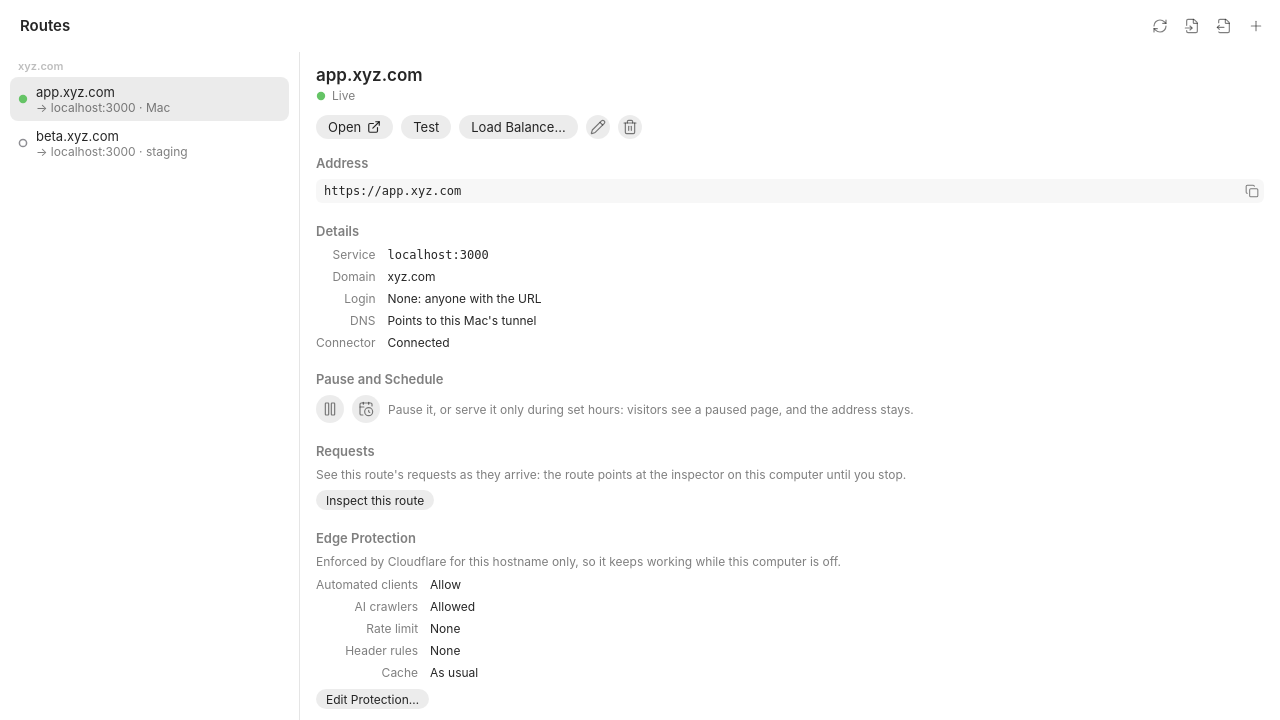
Scenario: RoutesPage › puts a new route on the tunnel chosen, and says which tunnel carries each
Expected: the text "→ localhost:3000 · staging" is shown, [36,144,188,158]
Expected: the picture named "Connector stopped" is shown, [18,138,28,148]
Click the button named "New route" at (1256, 26), box [1244,14,1268,38]
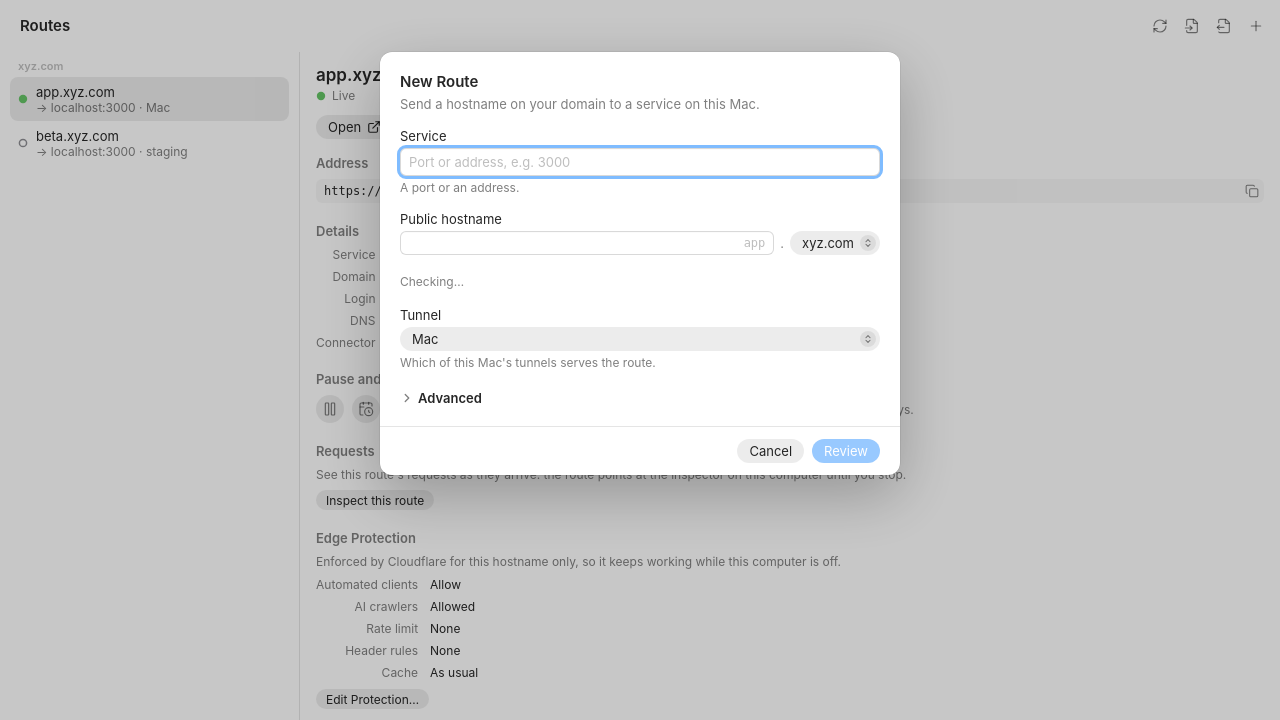
Type "5000" into the dropdown labelled "Port or address" at (640, 162), box [400,148,880,176]
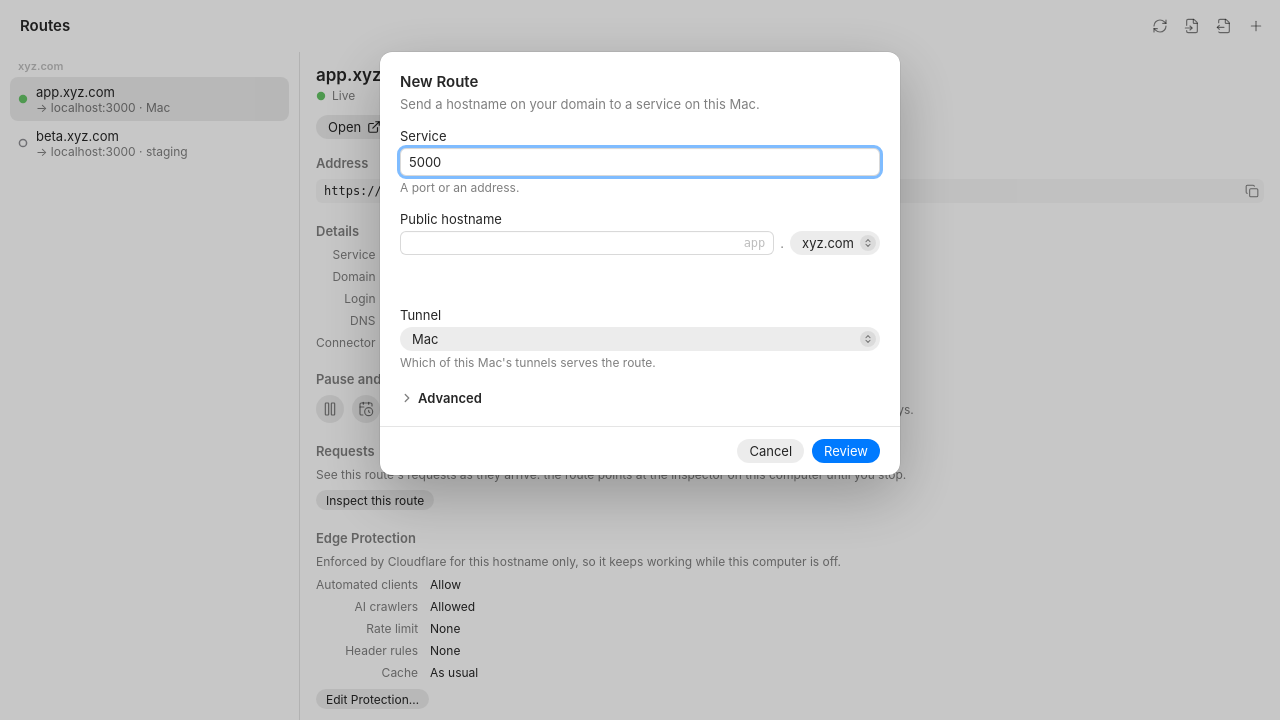
Expected: the dropdown named "Tunnel" reads "Mac"
Click the dropdown named "Tunnel" at (425, 339), box [400,327,880,351]
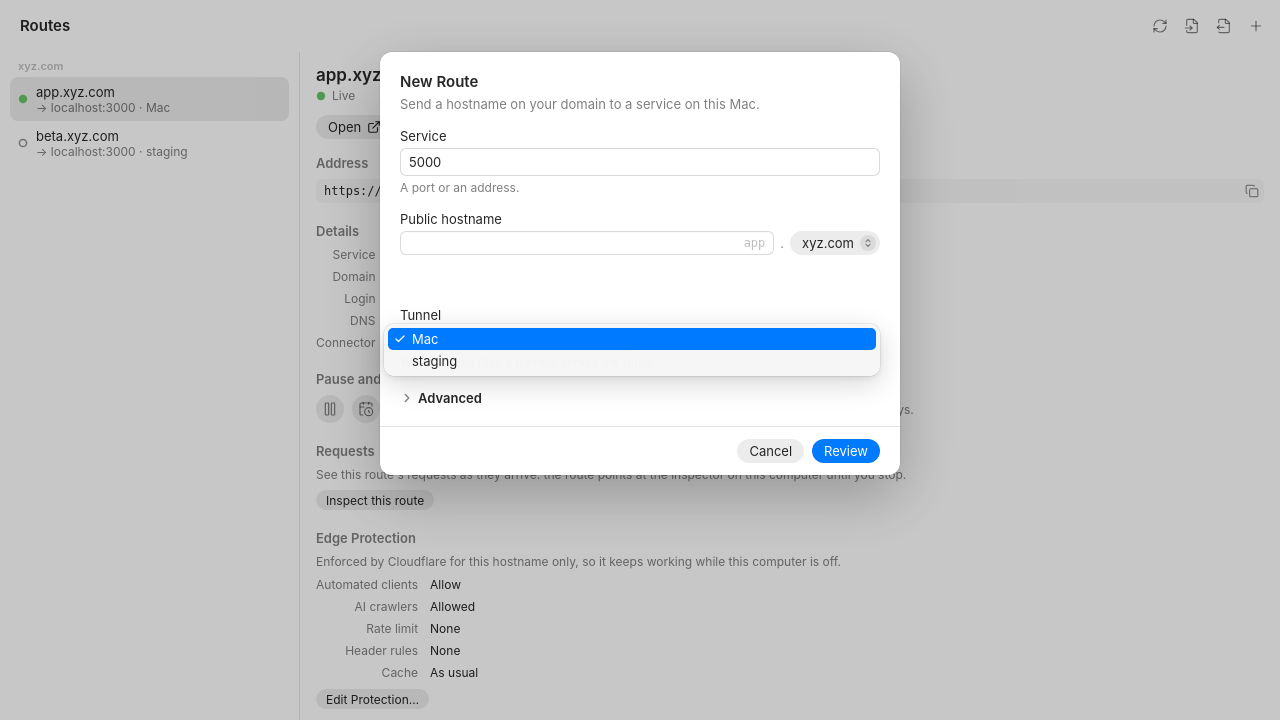
Click the option "staging" at (435, 361), box [412,353,457,369]
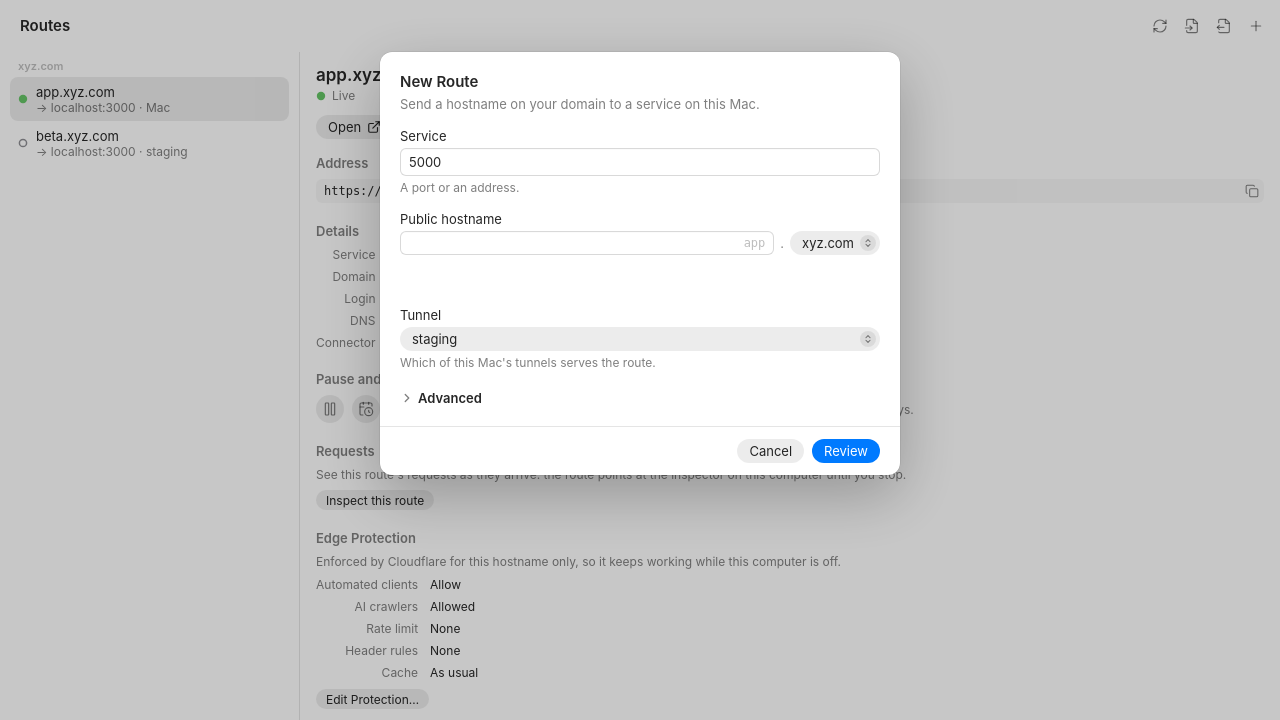
Click the button "Review" at (846, 451), box [812,439,880,463]
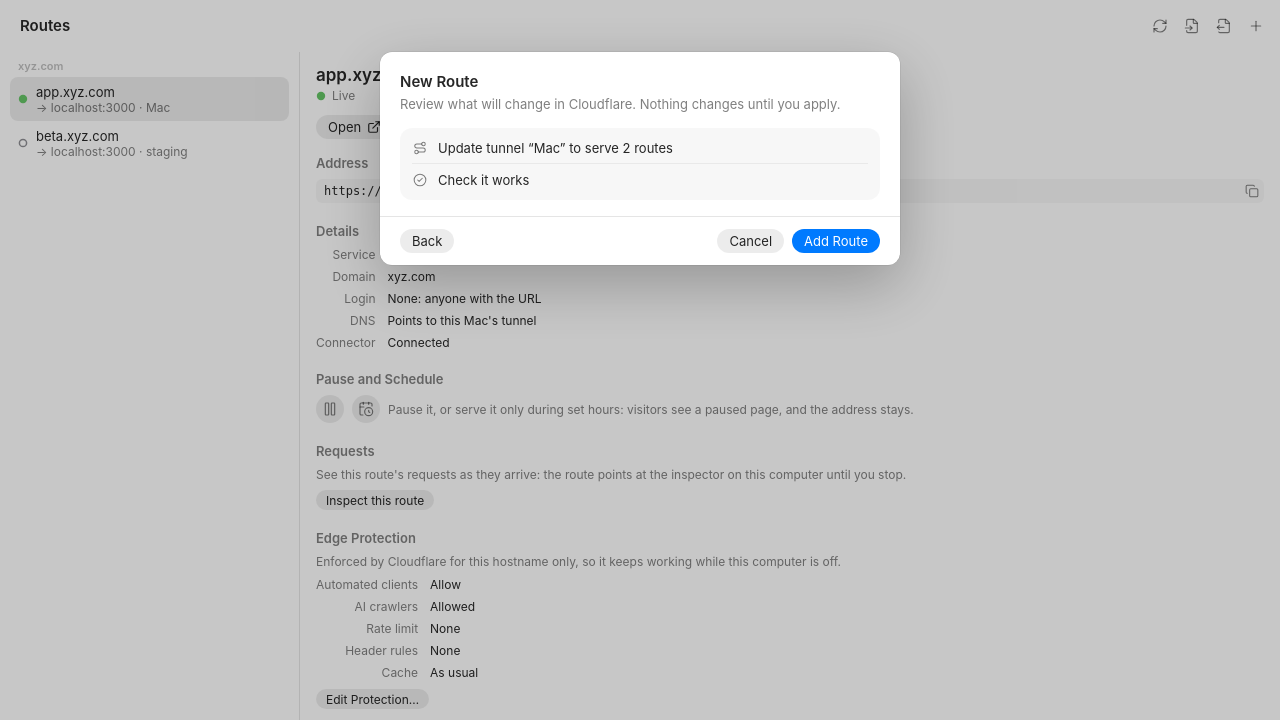
Expected: the text "Update tunnel “Mac” to serve 2 routes" is shown, [438,140,673,156]
